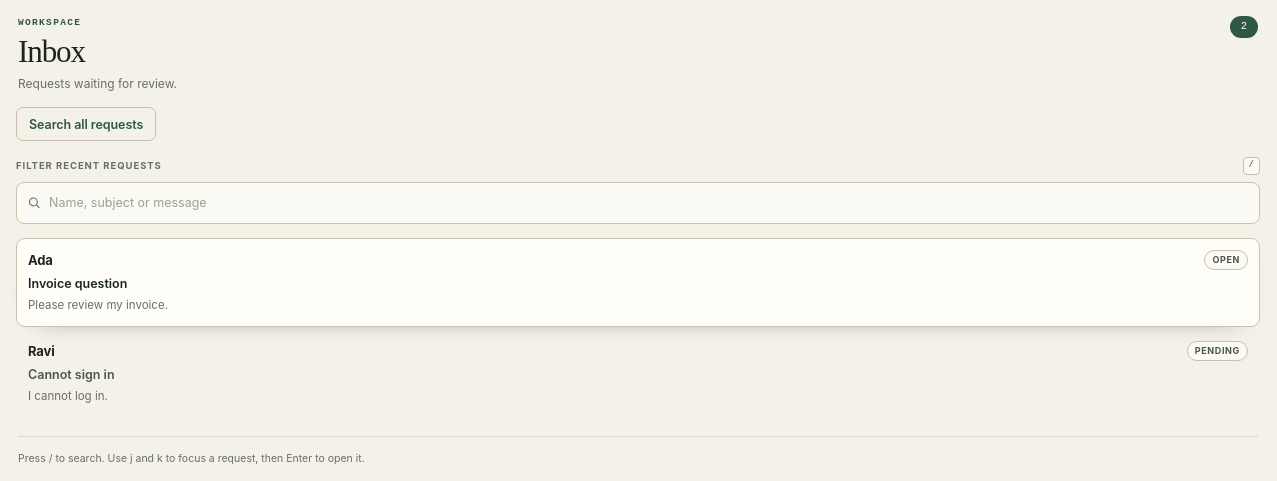
it: case list › filters by message and reports empty results
Type "log in" into the search field labelled "Filter recent requests /" at (638, 203), box [16,182,1260,224]
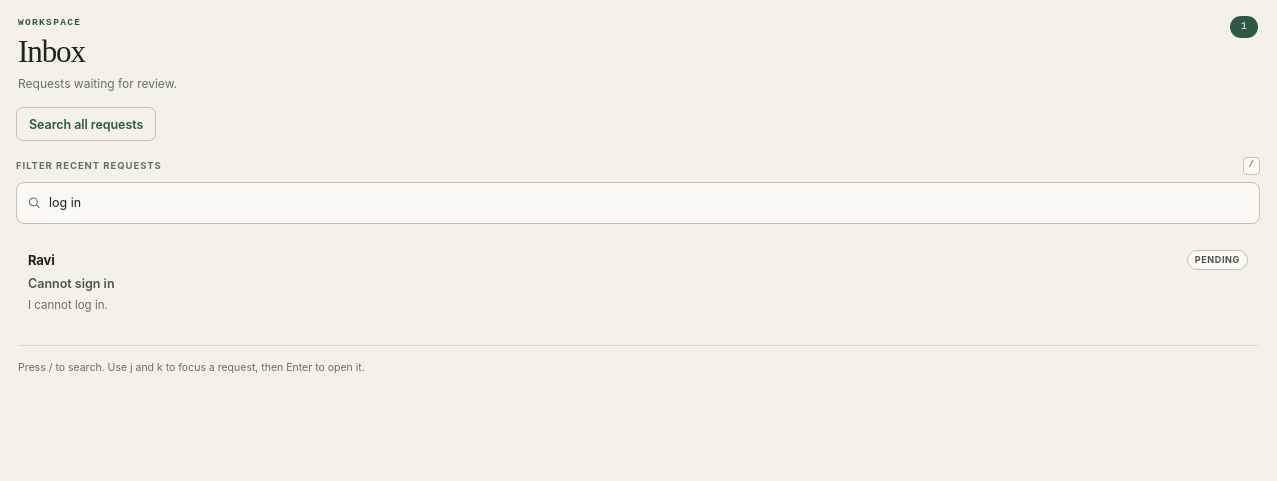
Expected: the link "Ravi pending Cannot sign in I cannot log in." is shown, [16,238,1260,327]
Expected: the link "Ada" is gone
Replace the text in the search field labelled "Filter recent requests /" with "nothing matches" at (638, 203), box [16,182,1260,224]
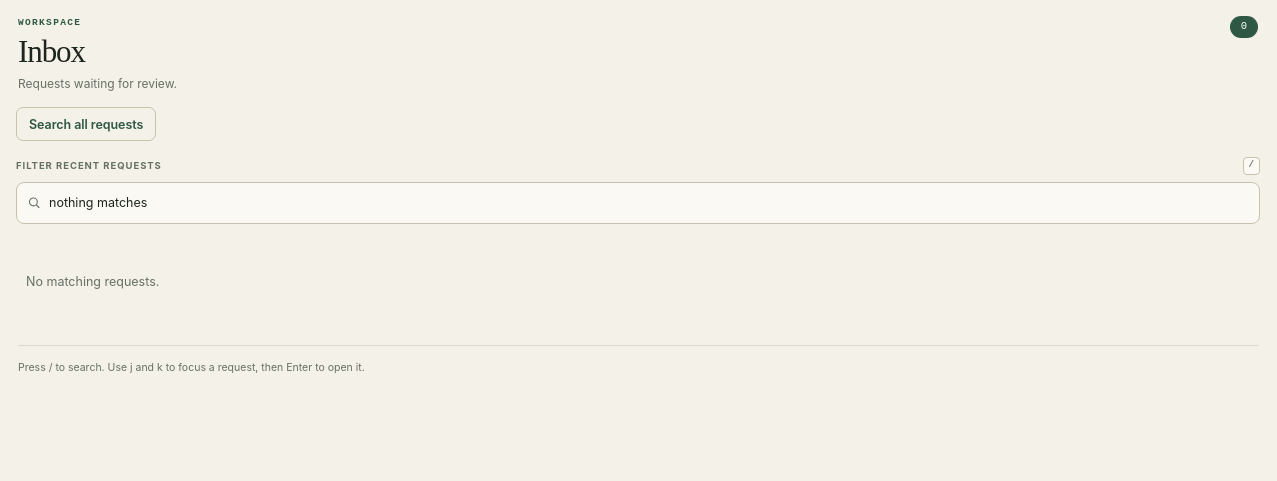
Expected: the text "No matching requests." is shown, [26,274,159,289]
